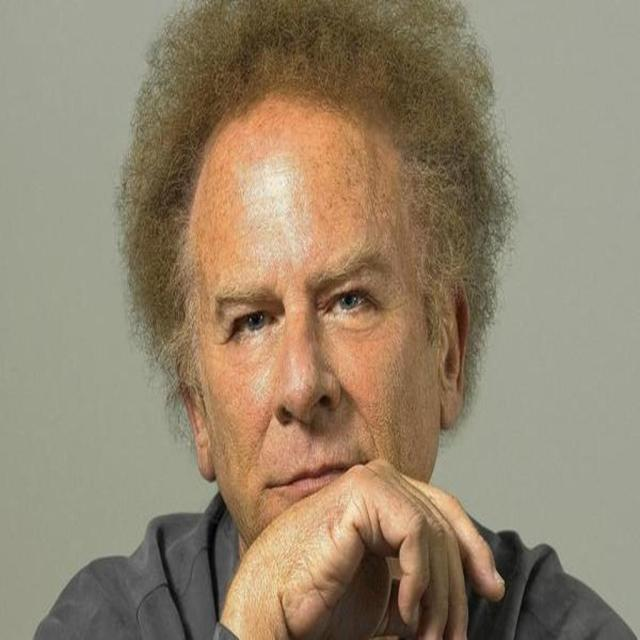Face: (178, 88, 452, 543)
